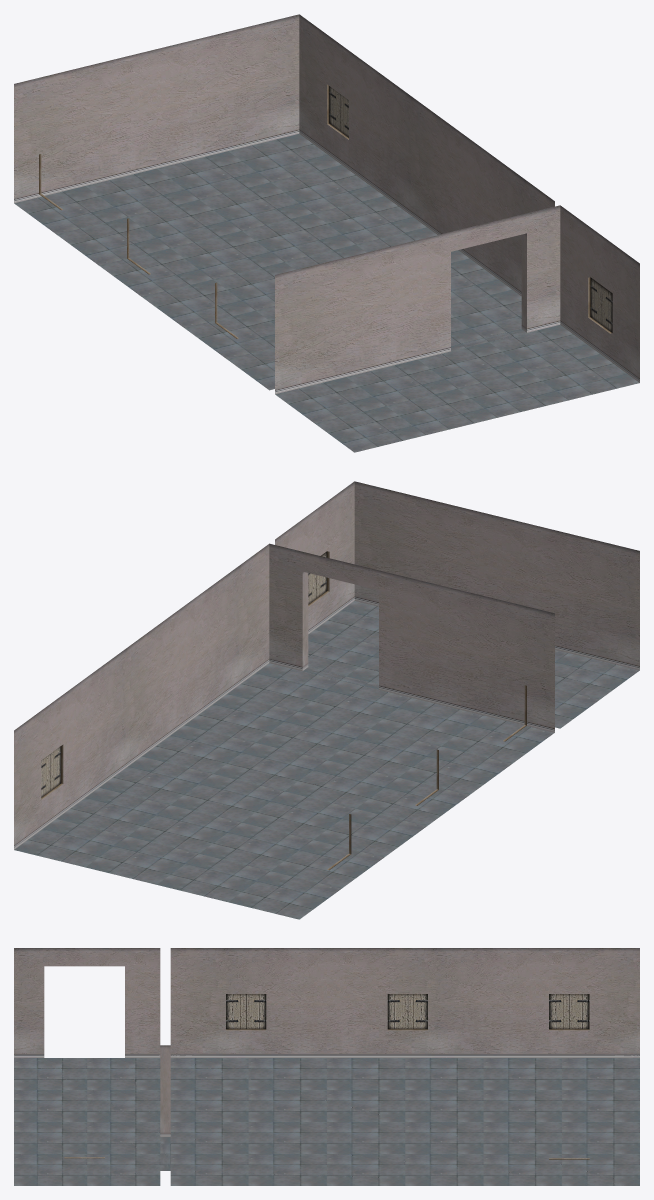
Rendered from MISSION1_GUARDHOUSE_INTERIOR.glb.
3 views of the same model, one above another, from view 1: azimuth 30°, elevation 25°; view 2: azimuth 150°, elevation 25°; view 3: azimuth 270°, elevation 25° (orthographic). The views are drawn at different scales.
Parts seen in each view (by area): view 1: MISSION1_GUARDHOUSE_INTERIOR; view 2: MISSION1_GUARDHOUSE_INTERIOR; view 3: MISSION1_GUARDHOUSE_INTERIOR.
Boxes of the visible parts, bbox=[...] form: MISSION1_GUARDHOUSE_INTERIOR: bbox=[14, 14, 639, 452]; MISSION1_GUARDHOUSE_INTERIOR: bbox=[14, 481, 639, 919]; MISSION1_GUARDHOUSE_INTERIOR: bbox=[14, 948, 639, 1185].
Bounding box in the file's own units: 7.63 × 3 × 15.5.
5 materials, 5 textured.
